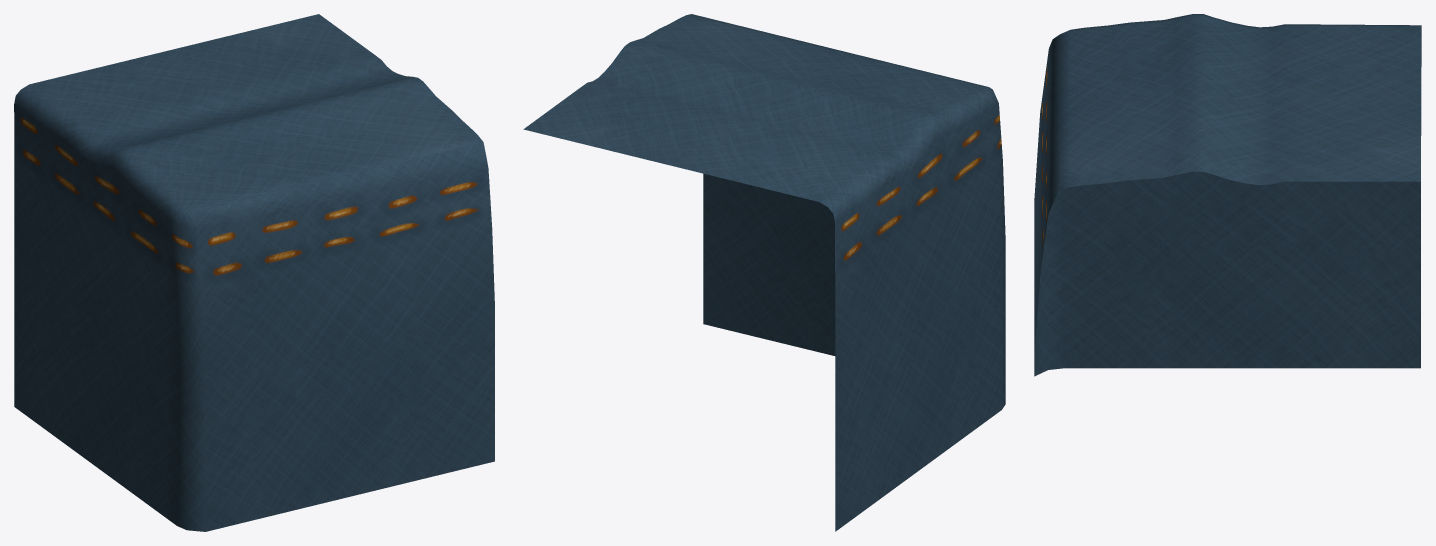
File: tl_cornerR.FBX
The picture shows the model from 3 angles, left to right: view 1: azimuth 30°, elevation 25°; view 2: azimuth 150°, elevation 25°; view 3: azimuth 270°, elevation 25°; orthographic projection. The views are drawn at different scales.
Visible parts, largest first — view 1: tl_cornerR_MESH; view 2: tl_cornerR_MESH; view 3: tl_cornerR_MESH.
Boxes of the visible parts, x1=… form: tl_cornerR_MESH: x1=14, y1=14, x2=494, y2=531; tl_cornerR_MESH: x1=523, y1=14, x2=1005, y2=531; tl_cornerR_MESH: x1=1034, y1=14, x2=1421, y2=376.
Size of the model in its own units: 100 by 103 by 100.
